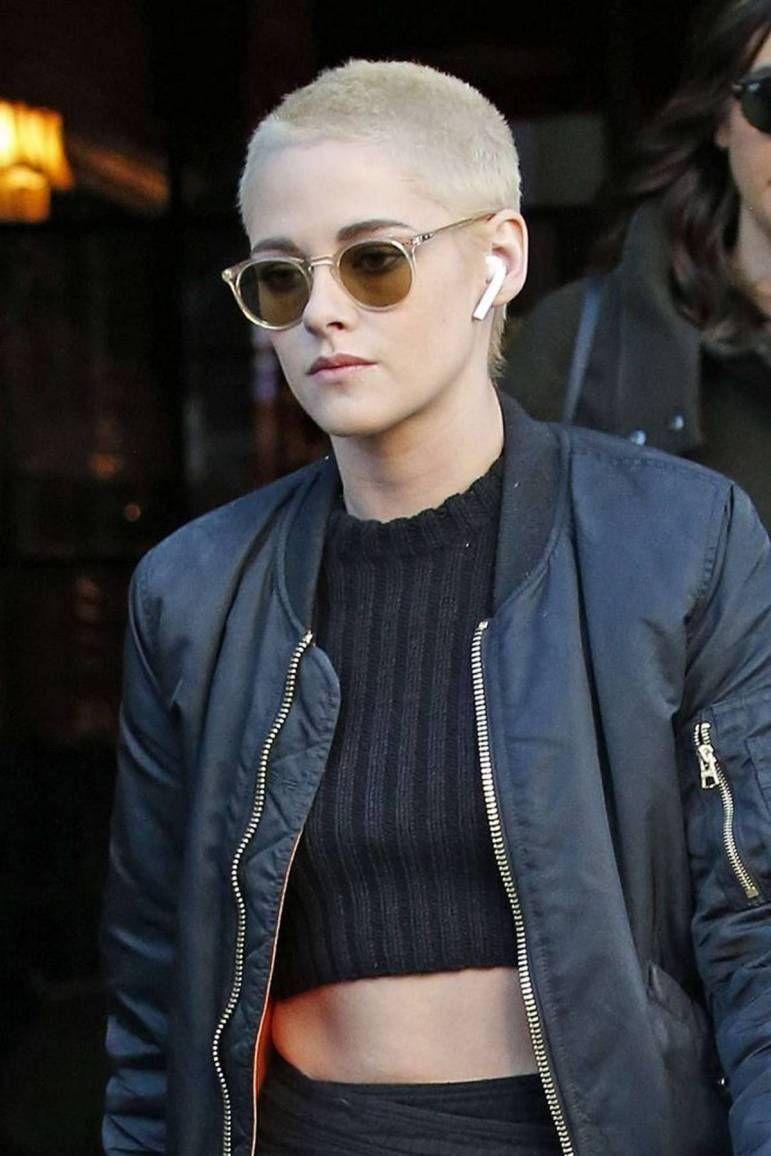earphone: (452, 256, 526, 328)
